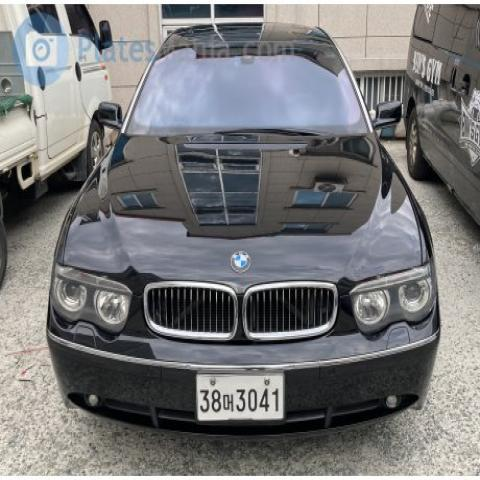LP: (189, 364, 294, 435)
